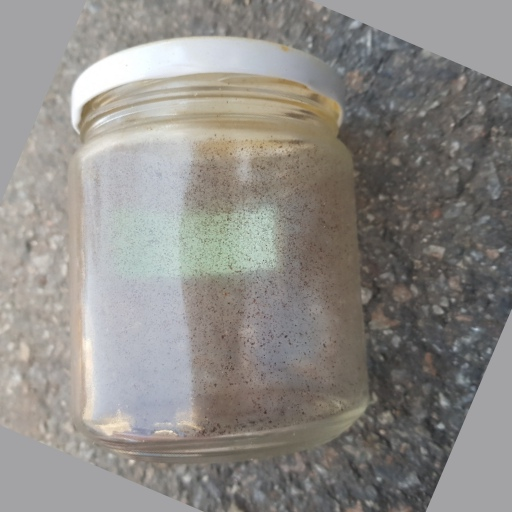Glass_5: (61, 28, 370, 458)
